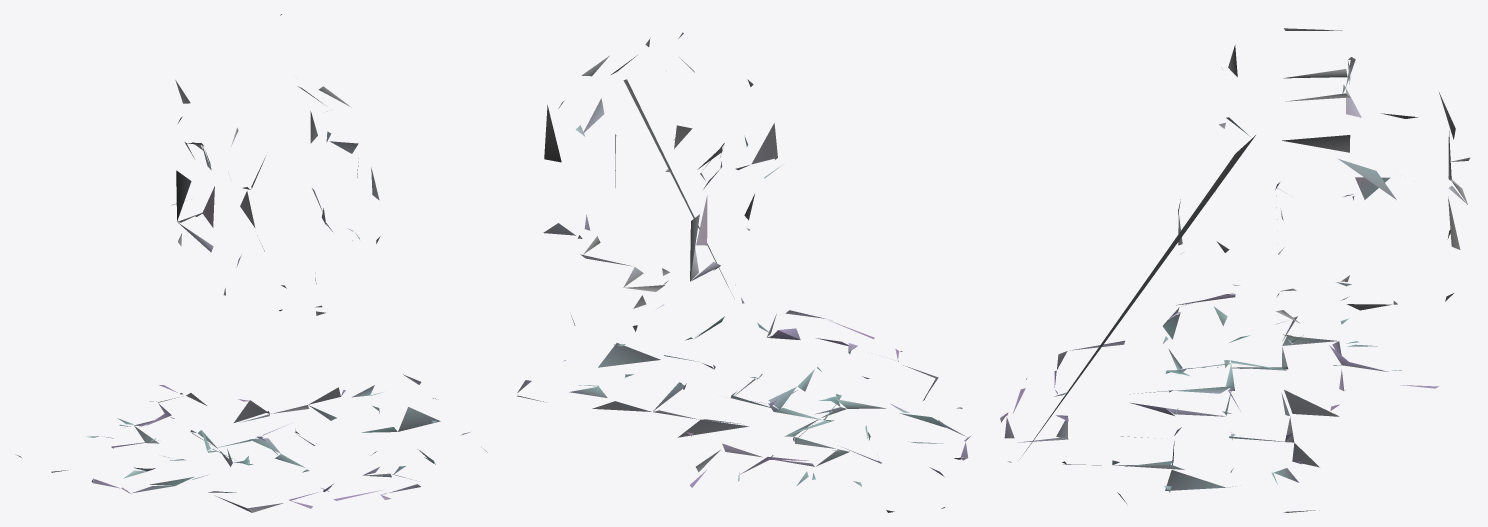
The model's file is fatedrop-droid.glb.
The picture shows the model from 3 angles, left to right: view 1: azimuth 30°, elevation 25°; view 2: azimuth 150°, elevation 25°; view 3: azimuth 270°, elevation 25°; orthographic projection. The views are drawn at different scales.
Visible parts, largest first — view 1: fatedrop-droid; view 2: fatedrop-droid; view 3: fatedrop-droid.
Part boxes in pixels (left/top/right/bottom): fatedrop-droid: left=15, top=14, right=487, bottom=512; fatedrop-droid: left=517, top=32, right=970, bottom=512; fatedrop-droid: left=1000, top=28, right=1470, bottom=512.
Size of the model in its own units: 2 by 1.73 by 1.71.
